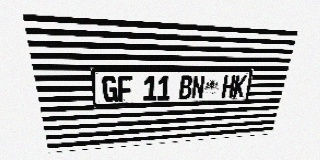1: (143, 76, 157, 101), (157, 76, 171, 100)
B: (178, 76, 193, 100)
F: (117, 76, 132, 102)
G: (102, 76, 118, 102)
H: (221, 75, 236, 98)
K: (232, 75, 247, 98)
N: (191, 76, 205, 99)
